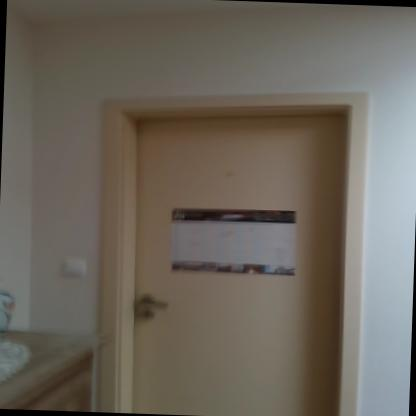closed: (61, 73, 391, 410)
